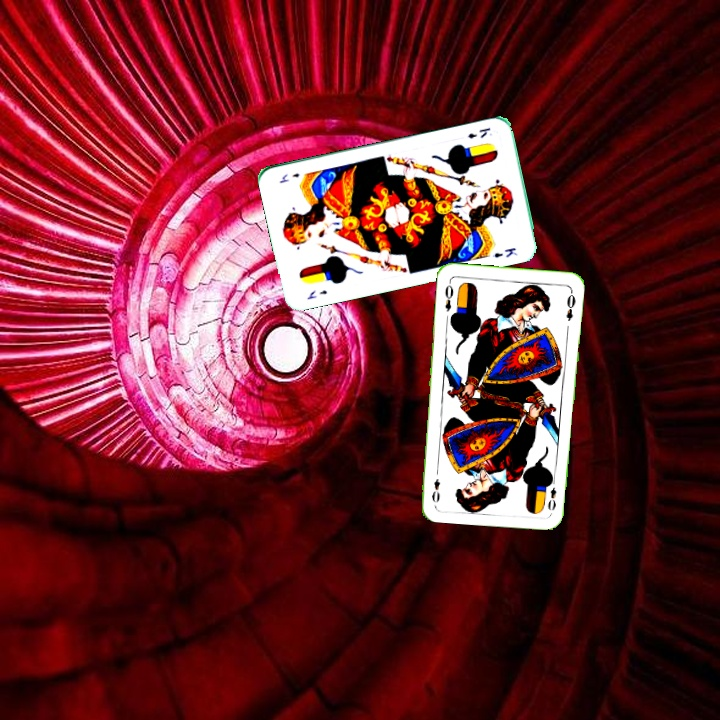EK: (464, 123, 493, 141), (303, 286, 330, 302)
EO: (544, 474, 559, 513), (441, 277, 456, 314)
